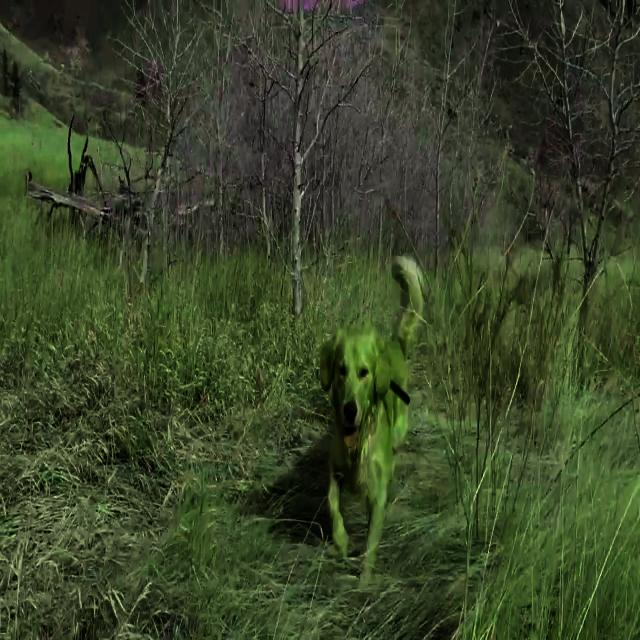Dog: (321, 258, 422, 587)
